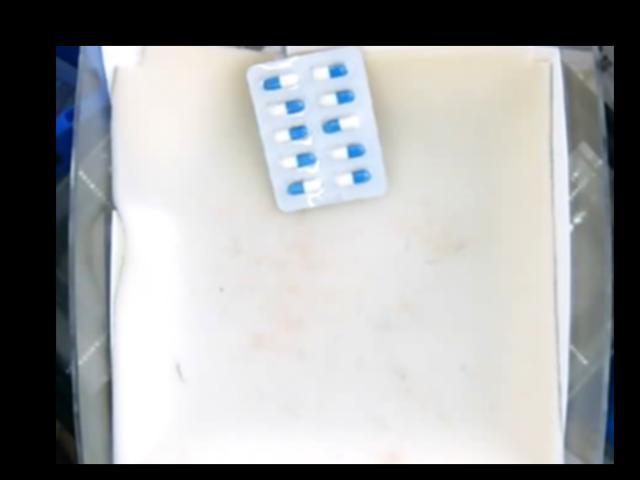Medicine: (249, 46, 385, 218)
